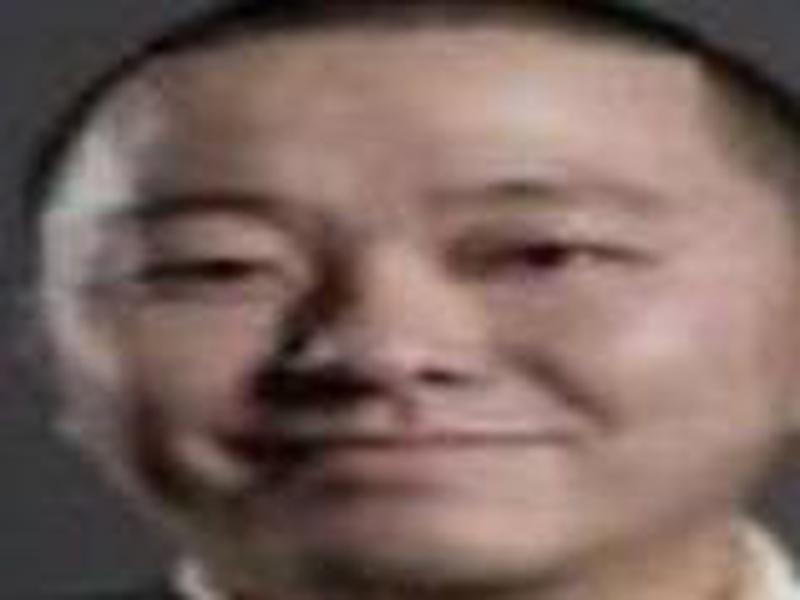without_mask: (59, 85, 759, 585)
